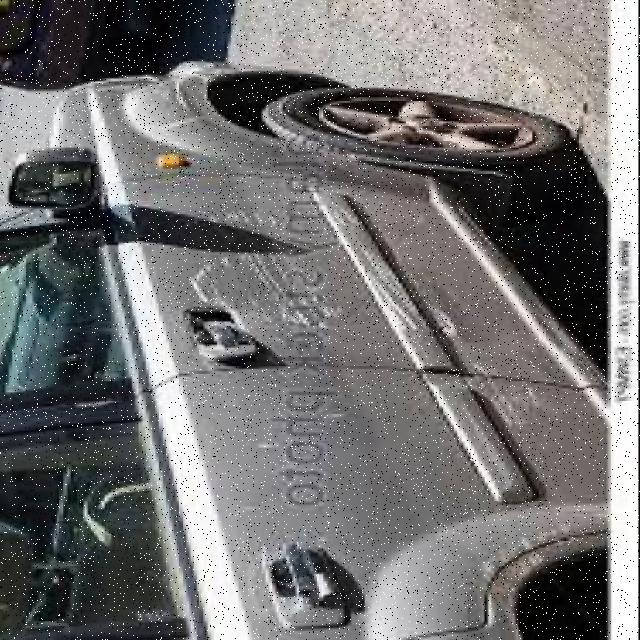damage: (187, 209, 367, 334), (327, 207, 463, 341), (456, 522, 585, 640), (467, 359, 562, 435)
